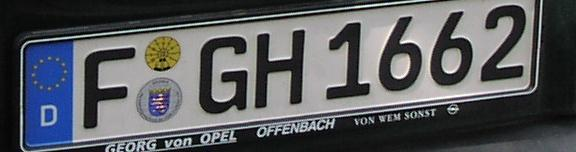1: (325, 21, 371, 98)
2: (480, 4, 527, 83)
6: (429, 11, 476, 87), (378, 16, 424, 92)
F: (82, 48, 140, 131)
G: (198, 37, 248, 112)
H: (255, 28, 305, 109)
